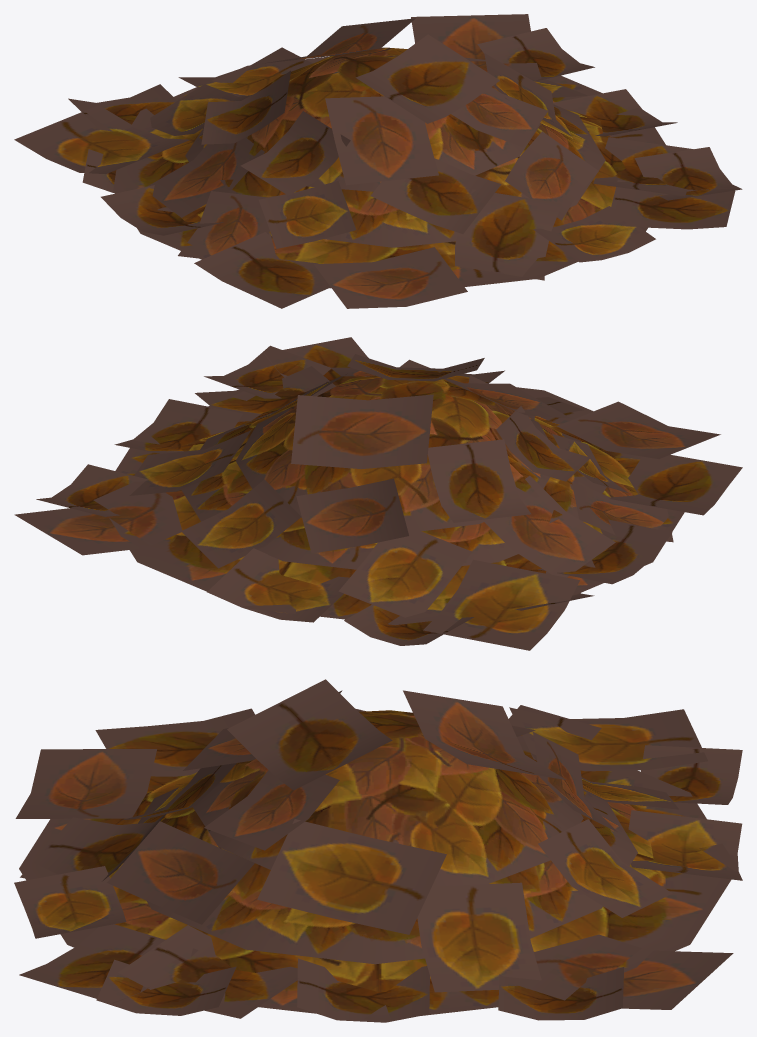
Rendered from FtrFallenleaves.glb.
3 renders of one model, top to bottom at view 1: azimuth 30°, elevation 25°; view 2: azimuth 150°, elevation 25°; view 3: azimuth 270°, elevation 25°, orthographic. The views are drawn at different scales.
Visible parts, largest first — view 1: body__mBody; view 2: body__mBody; view 3: body__mBody.
Boxes of the visible parts, x1,y1,x2,y2 form: body__mBody: (14,14,742,308); body__mBody: (14,337,742,650); body__mBody: (14,679,742,1022).
Bounding box in the file's own units: 14.92 × 3.59 × 14.96.
1 material, 1 textured.
